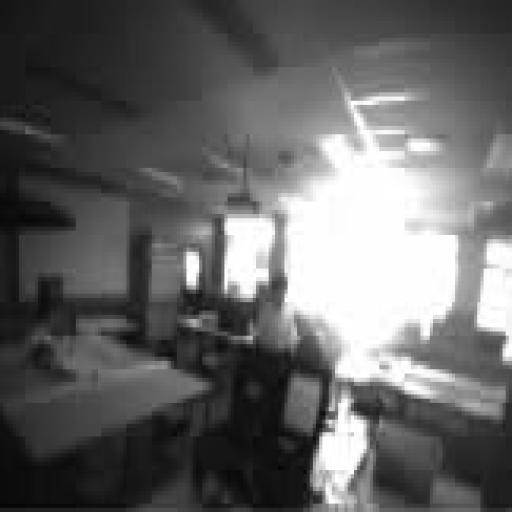human: (256, 273, 300, 352)
